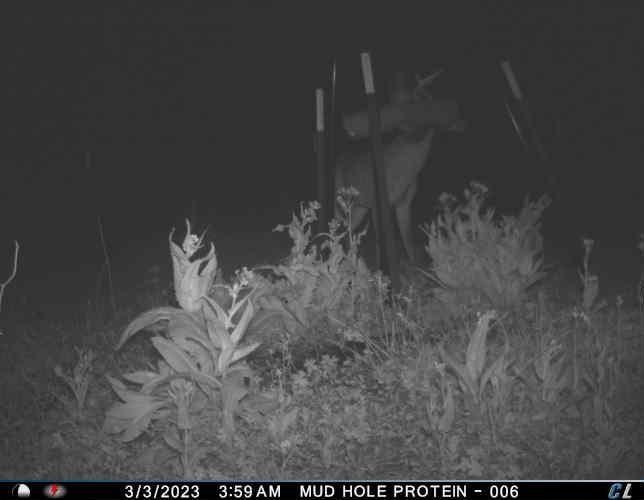Deer: (335, 64, 460, 264)
